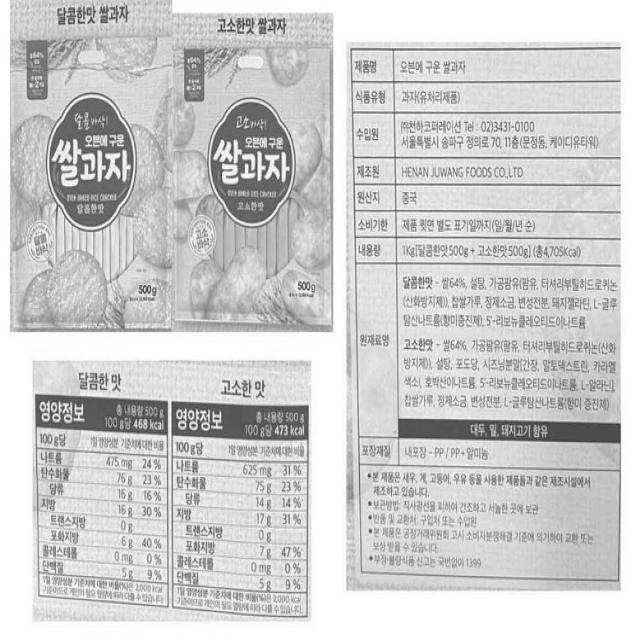Nutrition Label: (32, 385, 172, 616)
